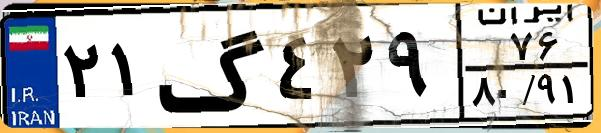0: (495, 70, 520, 125)
1: (110, 28, 156, 98), (560, 70, 590, 125)
2: (330, 28, 385, 110), (57, 26, 110, 100)
4: (270, 28, 330, 110)
6: (537, 27, 568, 80)
7: (508, 27, 537, 80)
8: (470, 70, 495, 125)
9: (385, 28, 445, 110), (535, 70, 560, 125)
گ: (156, 12, 270, 120)
